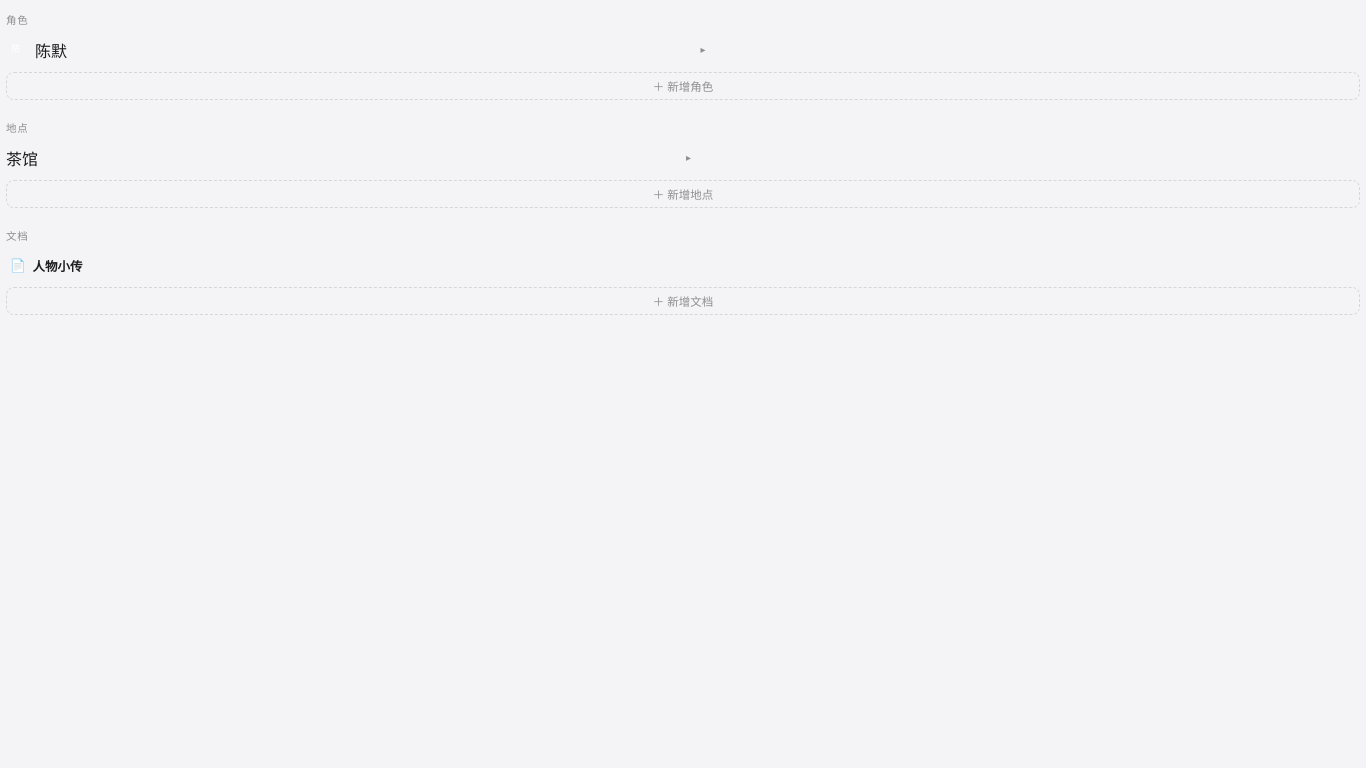
Test case: 并行编辑与按钮焦点（PR #97 评审第二轮） › 焦点移到表单操作按钮后按 Esc 仍丢弃草稿并关闭表单
Click the button named "编辑角色 陈默". click: (703, 50)
box: left=695, top=43, right=710, bottom=57
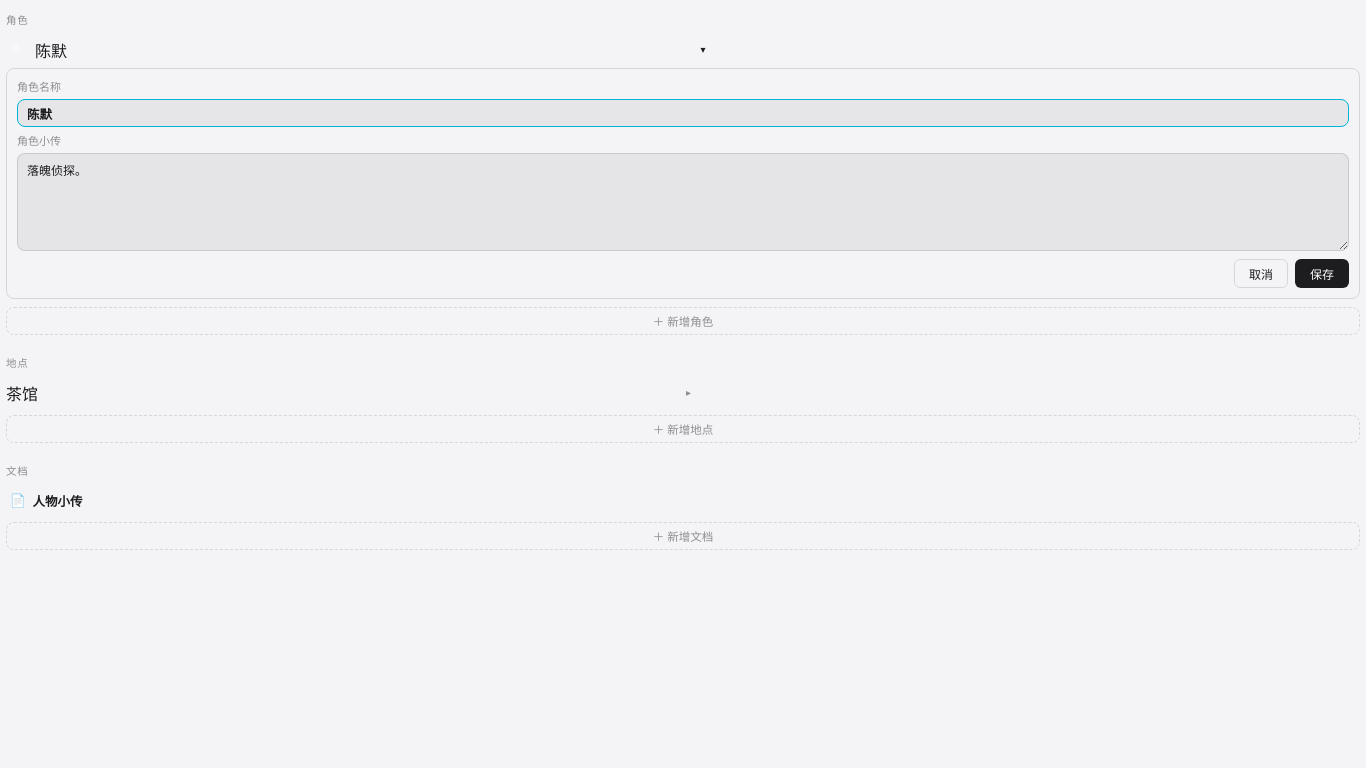
Replace the text in the text box labelled "角色小传" with "草稿". click: (683, 202)
box: left=17, top=153, right=1349, bottom=251
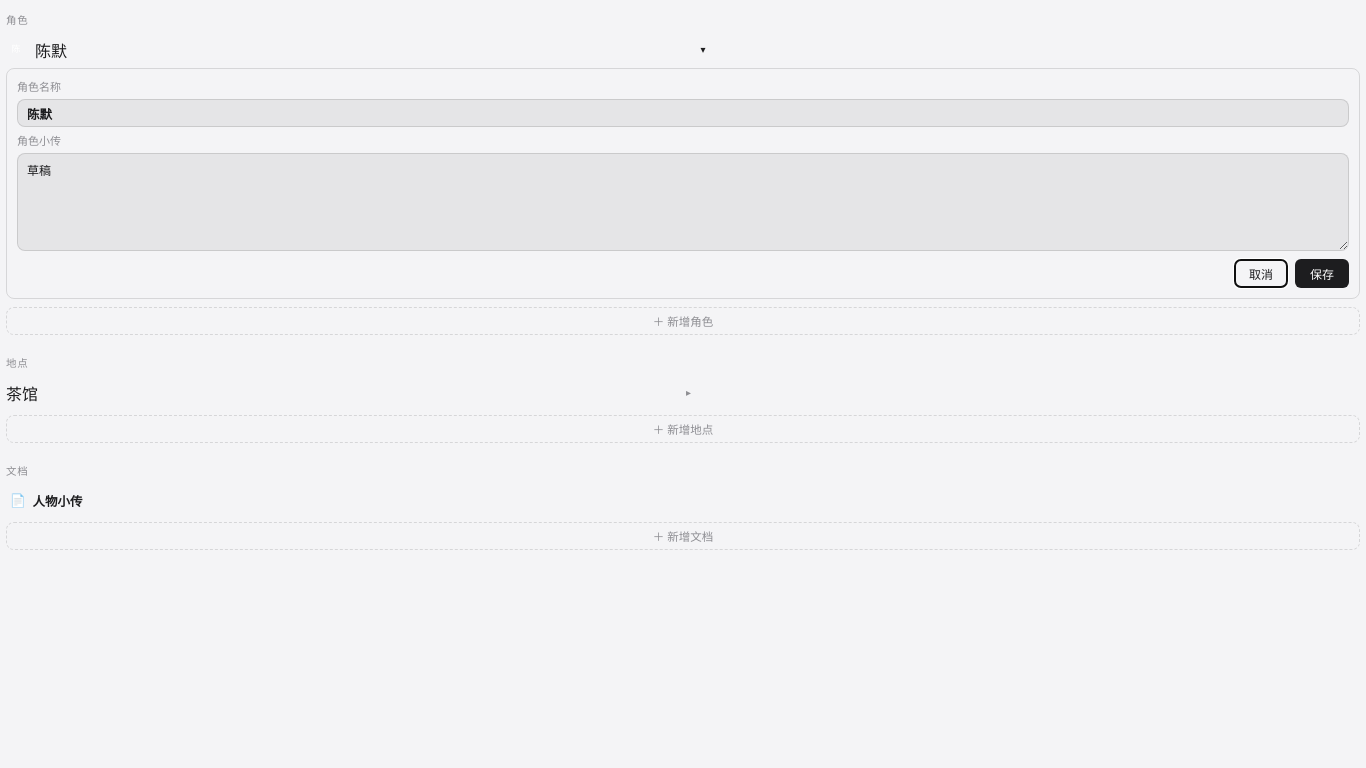
Press Escape in the button "取消", box left=1234, top=259, right=1288, bottom=288
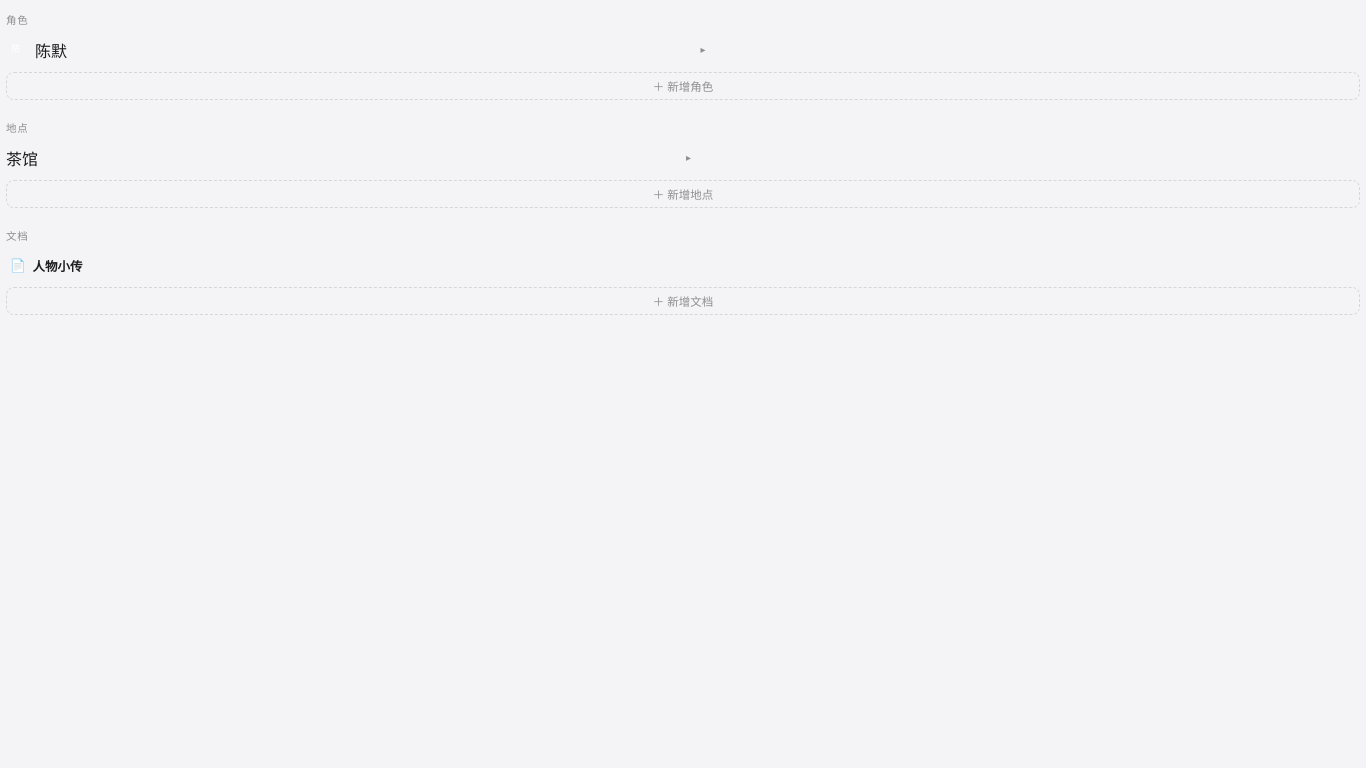
Expected: the label labelled "角色名称" is gone
